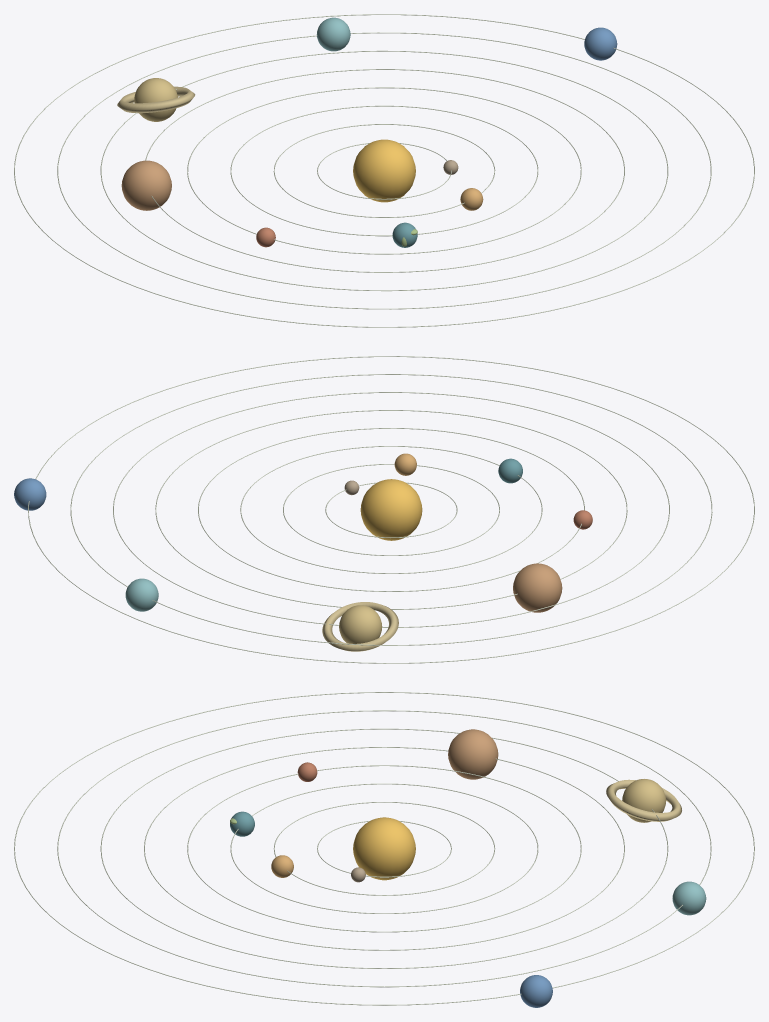
Rendered from solar-system.glb.
3 views of the same model, one above another, from view 1: azimuth 30°, elevation 25°; view 2: azimuth 150°, elevation 25°; view 3: azimuth 270°, elevation 25° (orthographic).
Visible parts, largest first — view 1: sun-mesh-0, orbital-guides-mesh-7, orbital-guides-mesh-6, jupiter-mesh-0, orbital-guides-mesh-5, orbital-guides-mesh-4, orbital-guides-mesh-3, saturn-mesh-0, saturn-mesh-1, orbital-guides-mesh-2, uranus-mesh-0, neptune-mesh-0 (+1 smaller); view 2: sun-mesh-0, orbital-guides-mesh-7, orbital-guides-mesh-6, jupiter-mesh-0, orbital-guides-mesh-5, orbital-guides-mesh-4, saturn-mesh-1, saturn-mesh-0, orbital-guides-mesh-3, orbital-guides-mesh-2, uranus-mesh-0, neptune-mesh-0 (+1 smaller); view 3: sun-mesh-0, orbital-guides-mesh-7, orbital-guides-mesh-6, jupiter-mesh-0, orbital-guides-mesh-5, orbital-guides-mesh-4, orbital-guides-mesh-3, saturn-mesh-0, saturn-mesh-1, orbital-guides-mesh-2, uranus-mesh-0, neptune-mesh-0 (+1 smaller).
Boxes of the visible parts, x1,y1,x2,y2 form: sun-mesh-0: [353, 139, 415, 202]; orbital-guides-mesh-7: [14, 14, 754, 327]; orbital-guides-mesh-6: [57, 32, 711, 309]; jupiter-mesh-0: [121, 160, 171, 210]; orbital-guides-mesh-5: [100, 50, 668, 291]; orbital-guides-mesh-4: [145, 69, 624, 272]; orbital-guides-mesh-3: [187, 87, 581, 254]; saturn-mesh-0: [134, 78, 177, 121]; saturn-mesh-1: [117, 86, 195, 113]; orbital-guides-mesh-2: [230, 105, 538, 236]; uranus-mesh-0: [316, 17, 350, 51]; neptune-mesh-0: [584, 27, 617, 60]; sun-mesh-0: [360, 479, 422, 540]; orbital-guides-mesh-7: [28, 356, 754, 663]; orbital-guides-mesh-6: [70, 374, 712, 645]; jupiter-mesh-0: [513, 563, 562, 612]; orbital-guides-mesh-5: [113, 392, 669, 627]; orbital-guides-mesh-4: [155, 410, 627, 609]; saturn-mesh-1: [322, 602, 398, 651]; saturn-mesh-0: [339, 605, 382, 643]; orbital-guides-mesh-3: [198, 428, 584, 591]; orbital-guides-mesh-2: [240, 446, 542, 573]; uranus-mesh-0: [125, 578, 158, 611]; neptune-mesh-0: [14, 478, 46, 510]; sun-mesh-0: [353, 817, 415, 880]; orbital-guides-mesh-7: [14, 692, 754, 1005]; orbital-guides-mesh-6: [57, 710, 711, 987]; jupiter-mesh-0: [448, 729, 498, 779]; orbital-guides-mesh-5: [100, 728, 668, 968]; orbital-guides-mesh-4: [144, 747, 624, 950]; orbital-guides-mesh-3: [187, 765, 581, 932]; saturn-mesh-0: [622, 779, 666, 822]; saturn-mesh-1: [606, 779, 681, 821]; orbital-guides-mesh-2: [230, 783, 538, 913]; uranus-mesh-0: [672, 881, 706, 915]; neptune-mesh-0: [520, 975, 552, 1007].
Bounding box in the file's own units: 18.82 × 1.6 × 18.82.
